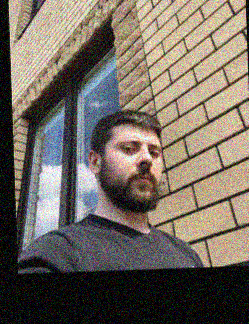without_mask: (110, 132, 164, 213)
